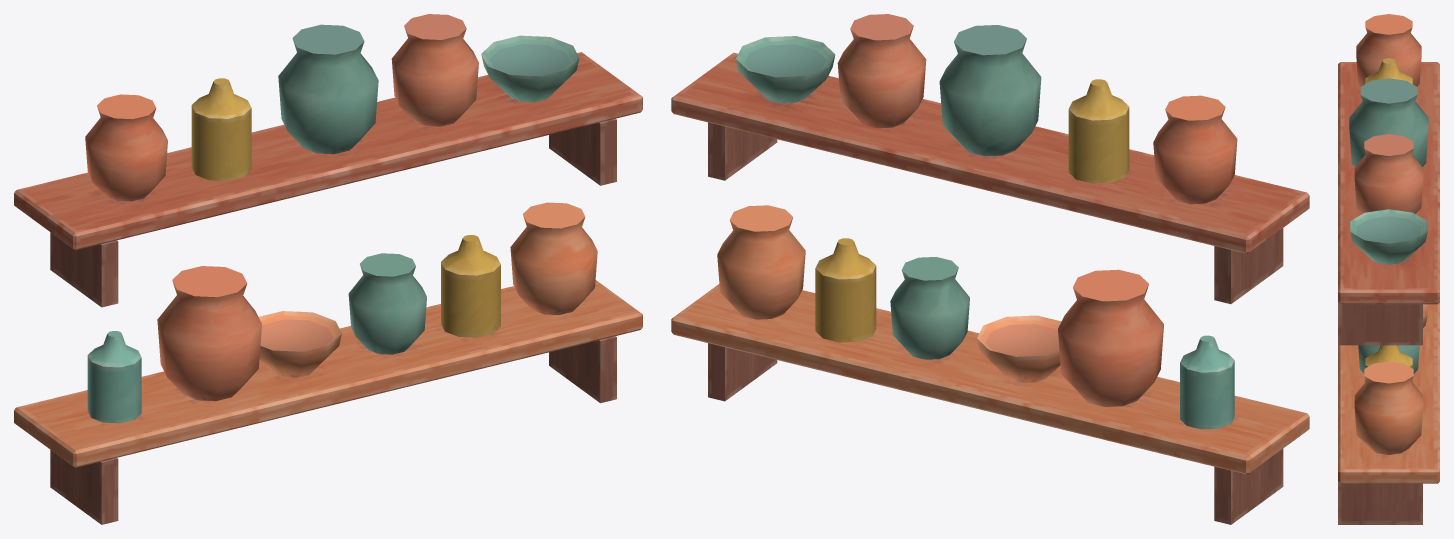
Rendered from shelf.fbx.
The picture shows the model from 3 angles, left to right: view 1: azimuth 30°, elevation 25°; view 2: azimuth 150°, elevation 25°; view 3: azimuth 270°, elevation 25°; orthographic projection. The views are drawn at different scales.
Parts seen in each view (by area): view 1: shelf; view 2: shelf; view 3: shelf.
Boxes of the visible parts, <box> form: shelf: <box>14,14,642,524</box>; shelf: <box>671,14,1309,524</box>; shelf: <box>1338,14,1439,524</box>.
Size of the model in its own units: 4.8 by 3.22 by 0.9.
Materials: 1 (1 with a texture image).
